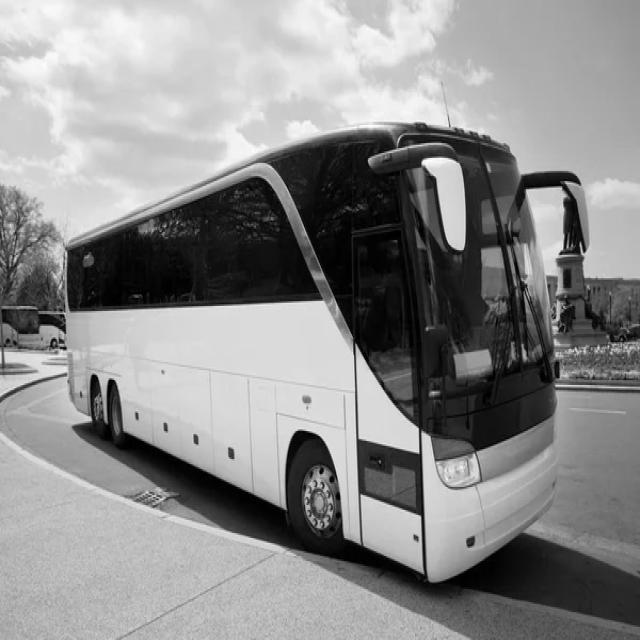Bus: (65, 124, 590, 584)
